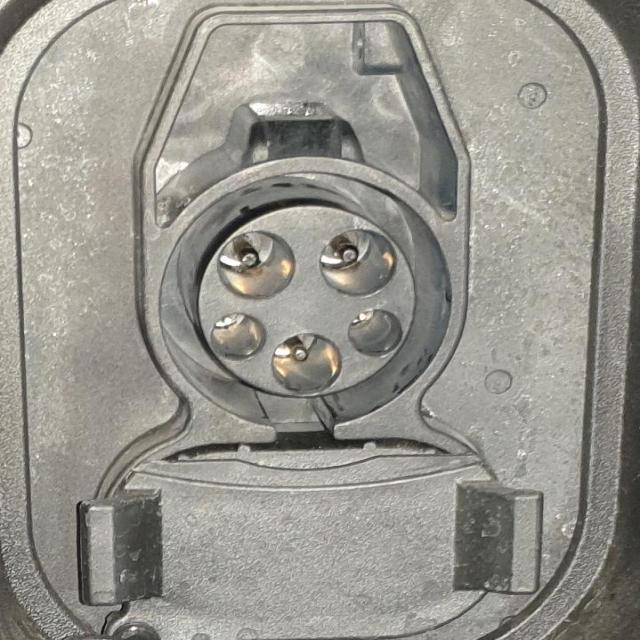Type 1: (125, 125, 505, 422)
